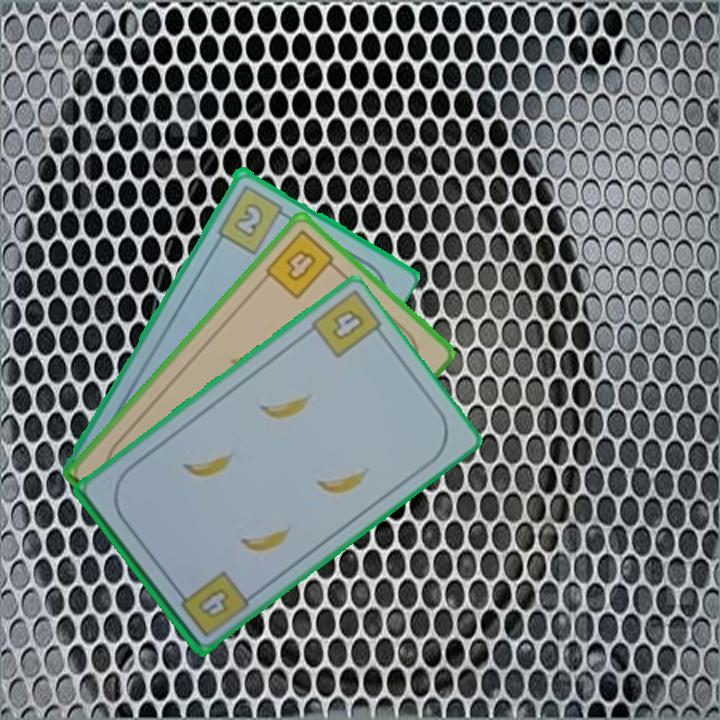2b: (213, 181, 293, 257)
4b: (261, 226, 343, 302), (171, 567, 249, 640), (328, 305, 368, 343)
